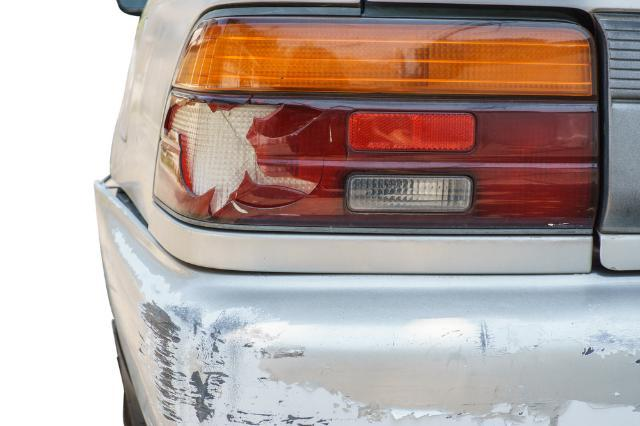lamp broken: (151, 5, 601, 231)
scratch: (110, 226, 640, 426)
